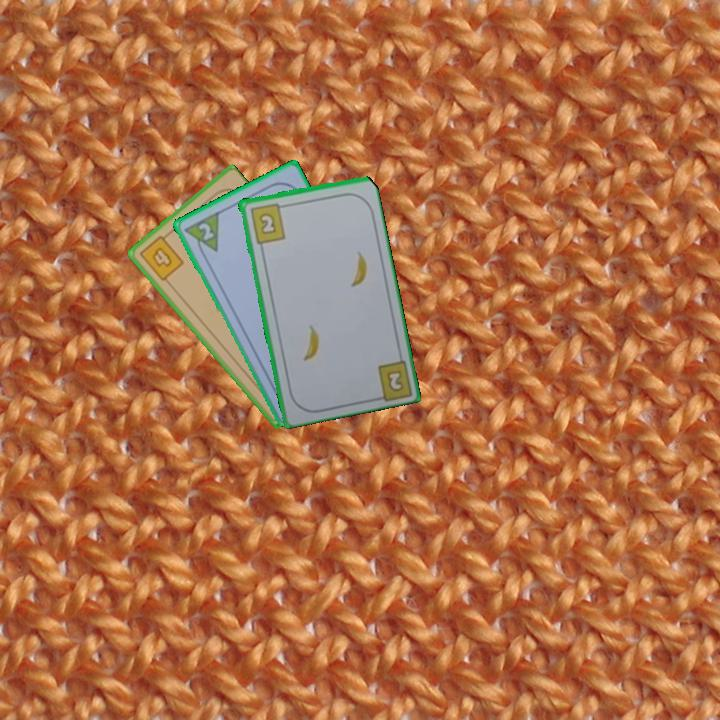2b: (246, 199, 288, 246), (385, 369, 404, 392)
2p: (180, 208, 222, 260)
4b: (135, 229, 187, 284)
